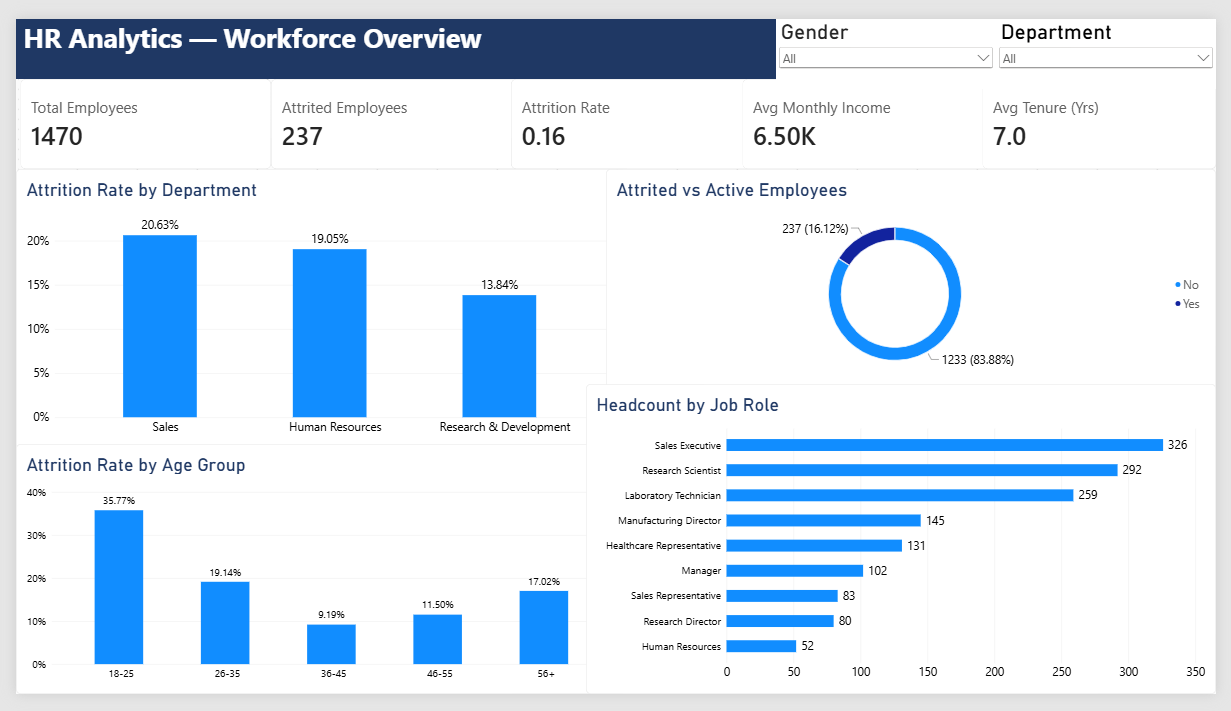

This screenshot's page, from the dashboard's own definition file:
{"tool":"powerbi","page":{"name":"Workforce Overview","canvas":[1920,1080],"ordinal":0},"visuals":[{"type":"textbox","box":[0,0,1920,96],"z":0},{"type":"cardVisual","fields":{"Data":["_Measures.Total Employees"]},"box":[0,96,408,144],"z":1000},{"type":"cardVisual","fields":{"Data":["_Measures.Attrited Employees"]},"box":[408,96,408,144],"z":2000},{"type":"cardVisual","fields":{"Data":["_Measures.Attrition Rate"]},"box":[792,96,408,144],"z":3000},{"type":"cardVisual","fields":{"Data":["_Measures.Avg Monthly Income"]},"box":[1152,96,408,144],"z":4000},{"type":"cardVisual","fields":{"Data":["_Measures.Avg Tenure"]},"box":[1536,96,384,144],"z":5000},{"type":"clusteredColumnChart","title":"Attrition Rate by Department","fields":{"Category":["HR_Data.Department"],"Y":["_Measures.Attrition Rate"]},"box":[0,240,976,448],"z":6000},{"type":"donutChart","title":"Attrited vs Active Employees","fields":{"Category":["HR_Data.Attrition"],"Y":["_Measures.Total Employees"]},"box":[944,240,976,352],"z":7000},{"type":"clusteredColumnChart","title":"Attrition Rate by Age Group","fields":{"Category":["HR_Data.Age Group"],"Y":["_Measures.Attrition Rate"]},"box":[0,680,976,400],"z":8000},{"type":"clusteredBarChart","title":"Headcount by Job Role","fields":{"Category":["HR_Data.JobRole"],"Y":["_Measures.Total Employees"]},"box":[912,584,1008,496],"z":9000},{"type":"slicer","fields":{"Values":["HR_Data.Department"]},"box":[1568,0,352,112],"z":10000},{"type":"slicer","fields":{"Values":["HR_Data.Gender"]},"box":[1216,0,352,112],"z":11000}]}

Visuals, with their boxes in screenshot pixels (x1, y1, x2, y2), scaled from the page's 1920x1080 canvas onto the 1231x711 screenshot:
textbox: [x1=0, y1=0, x2=1230, y2=63]
cardVisual - _Measures.Total Employees: [x1=0, y1=63, x2=262, y2=158]
cardVisual - _Measures.Attrited Employees: [x1=262, y1=63, x2=523, y2=158]
cardVisual - _Measures.Attrition Rate: [x1=508, y1=63, x2=769, y2=158]
cardVisual - _Measures.Avg Monthly Income: [x1=739, y1=63, x2=1000, y2=158]
cardVisual - _Measures.Avg Tenure: [x1=985, y1=63, x2=1230, y2=158]
"Attrition Rate by Department" clusteredColumnChart: [x1=0, y1=158, x2=626, y2=453]
"Attrited vs Active Employees" donutChart: [x1=605, y1=158, x2=1230, y2=390]
"Attrition Rate by Age Group" clusteredColumnChart: [x1=0, y1=448, x2=626, y2=710]
"Headcount by Job Role" clusteredBarChart: [x1=585, y1=384, x2=1230, y2=710]
slicer - HR_Data.Department: [x1=1005, y1=0, x2=1230, y2=74]
slicer - HR_Data.Gender: [x1=780, y1=0, x2=1005, y2=74]
